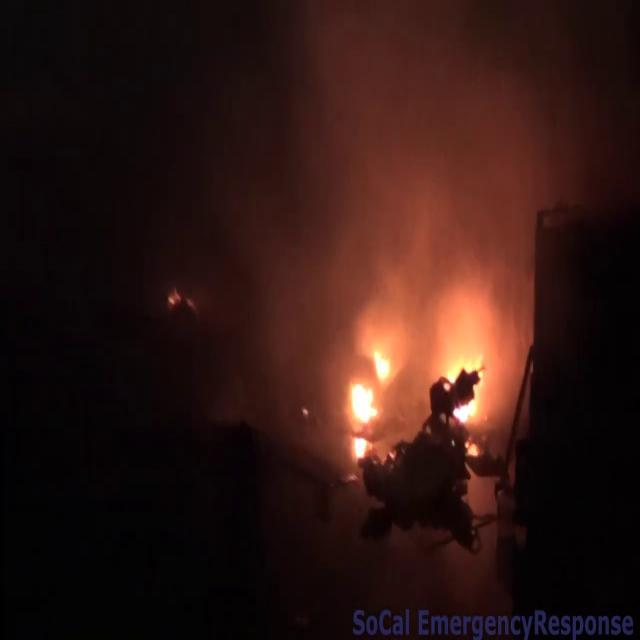Fire: (344, 334, 396, 456), (439, 338, 493, 442)
Smoke: (152, 0, 626, 372)
